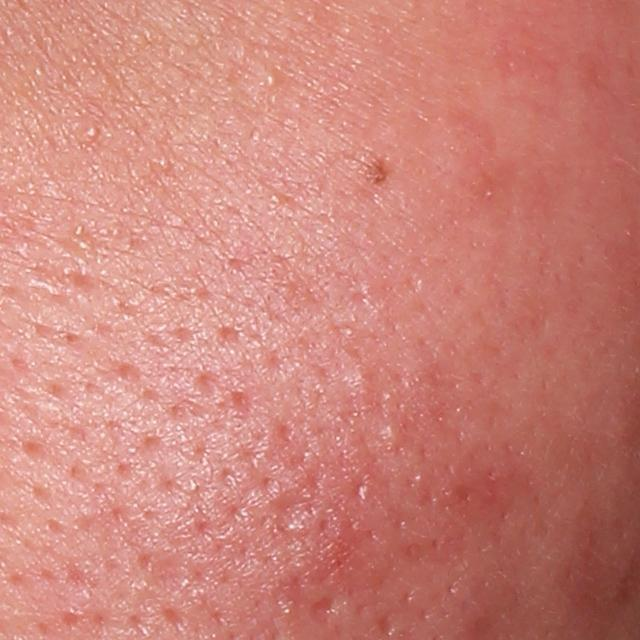atrophic_scar: (264, 473, 314, 534), (302, 596, 336, 629)
comedo: (259, 67, 286, 90)
nevus: (366, 162, 397, 185)
